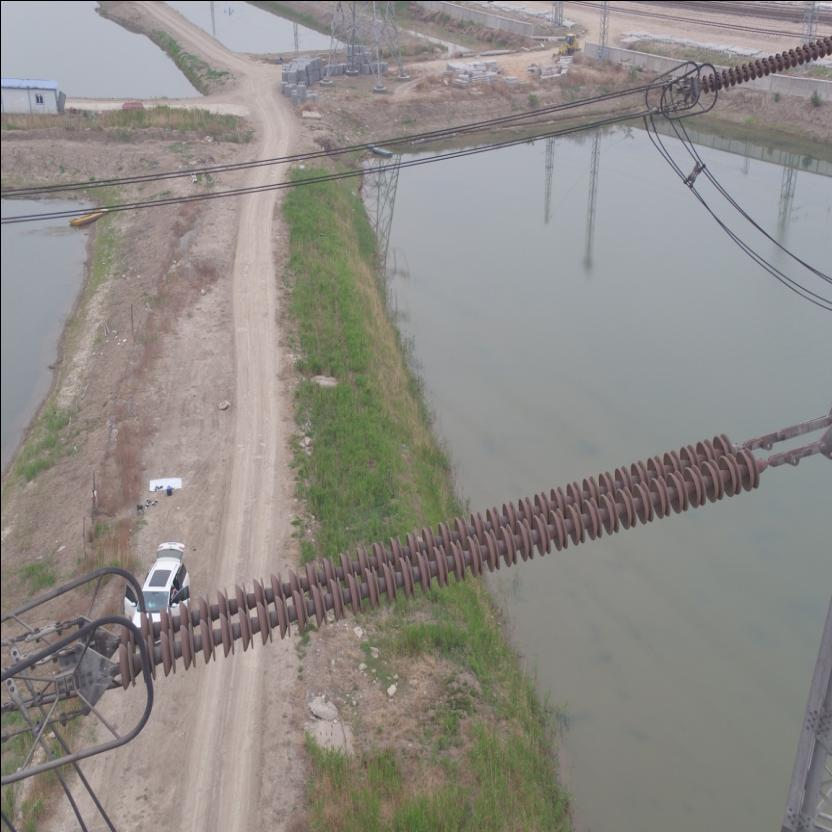insulator: (100, 422, 802, 690), (698, 31, 831, 96)
